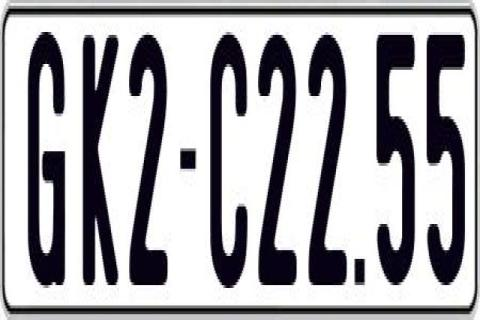0: (305, 35, 349, 285), (374, 29, 416, 288), (129, 26, 167, 294), (424, 26, 464, 276), (257, 27, 296, 280)
C: (210, 35, 250, 291)
G: (26, 26, 70, 288)
K: (82, 27, 118, 280)
